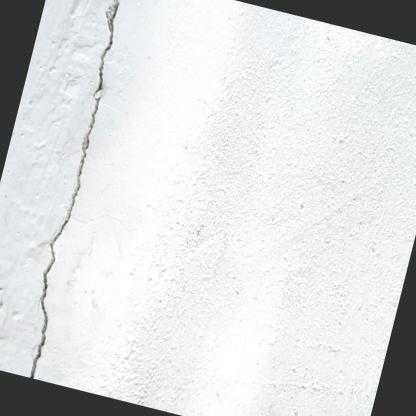crack: (27, 0, 123, 379)
